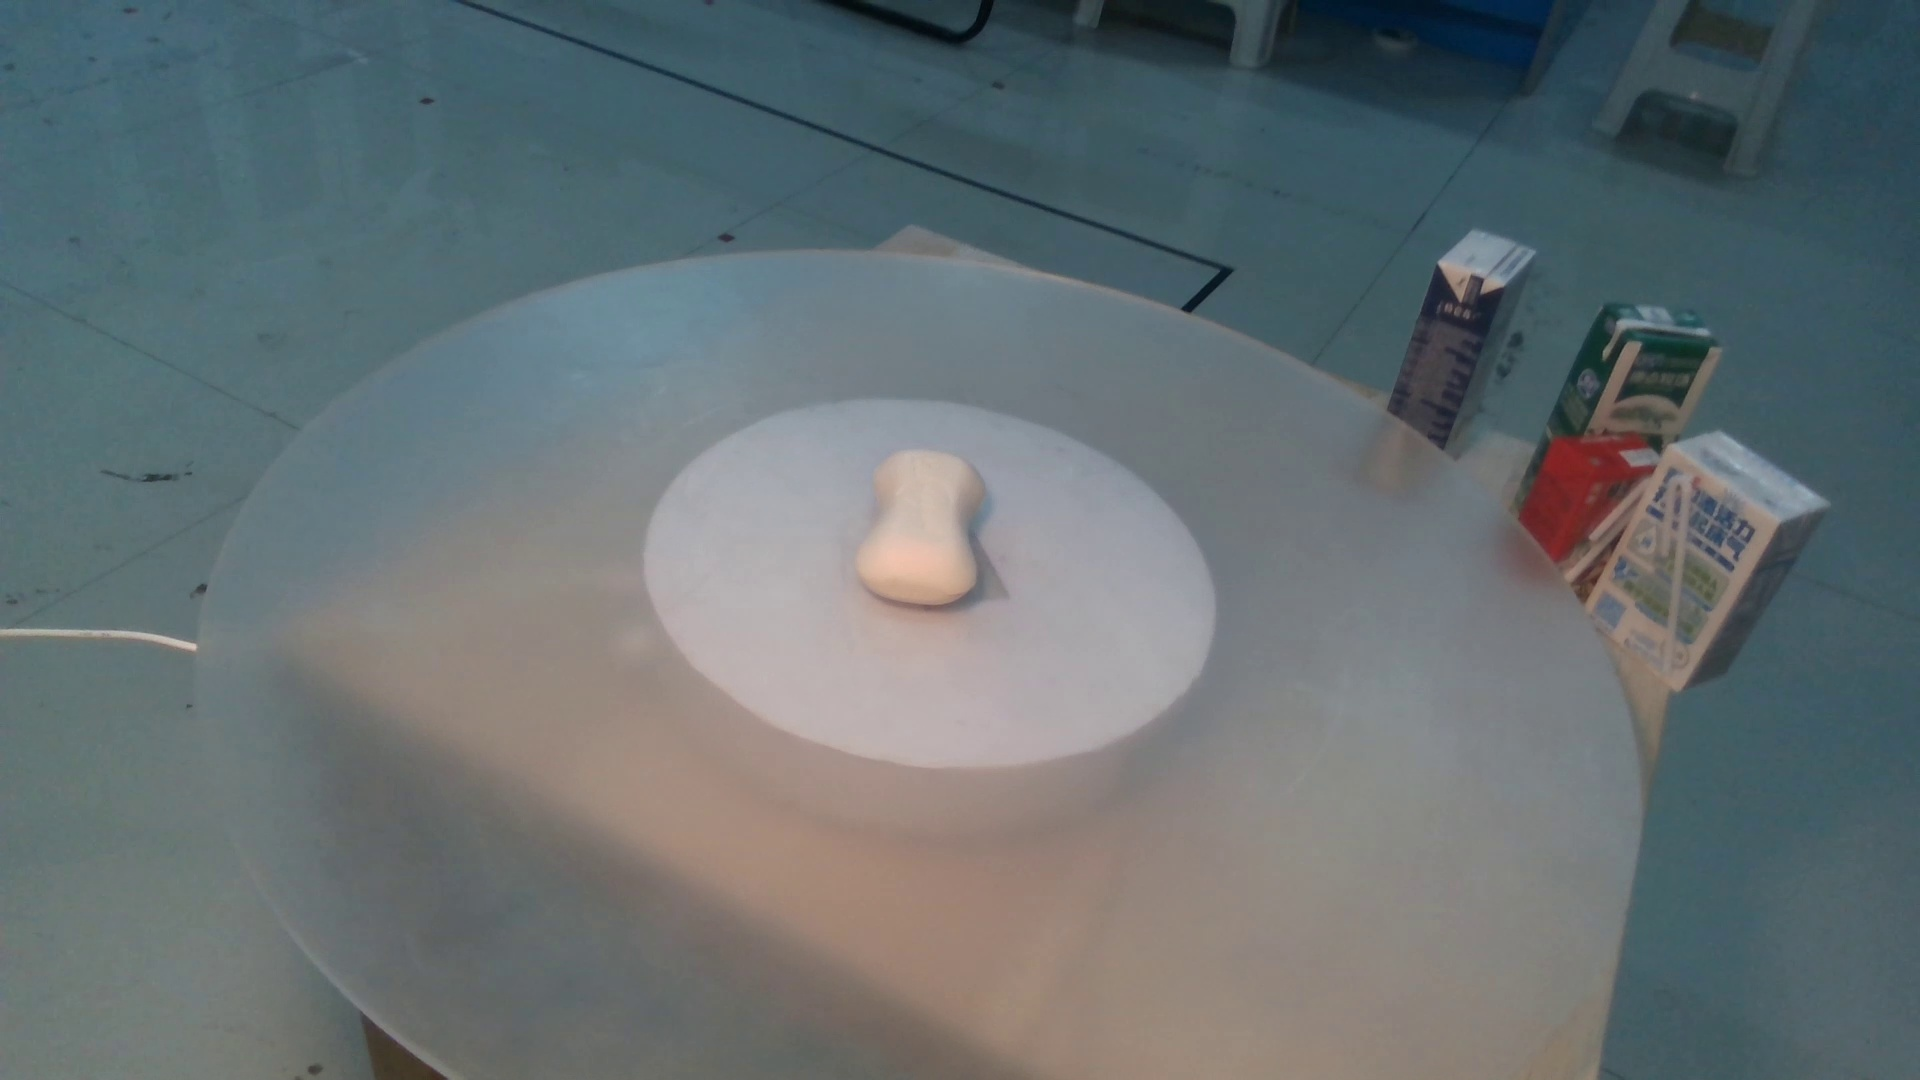CA003_1: (818, 419, 1033, 621)
